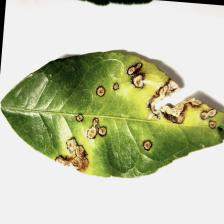greening: (43, 53, 224, 178)
